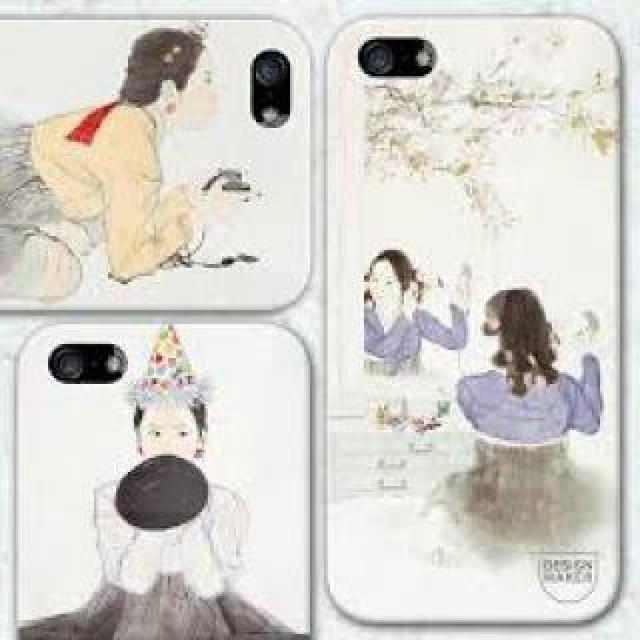smart phone: (310, 6, 640, 640), (4, 310, 296, 640)
